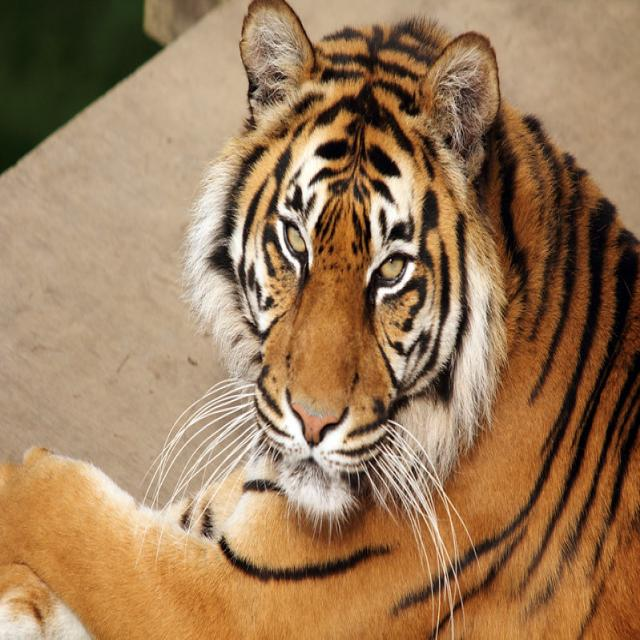Tiger: (79, 5, 638, 639)
